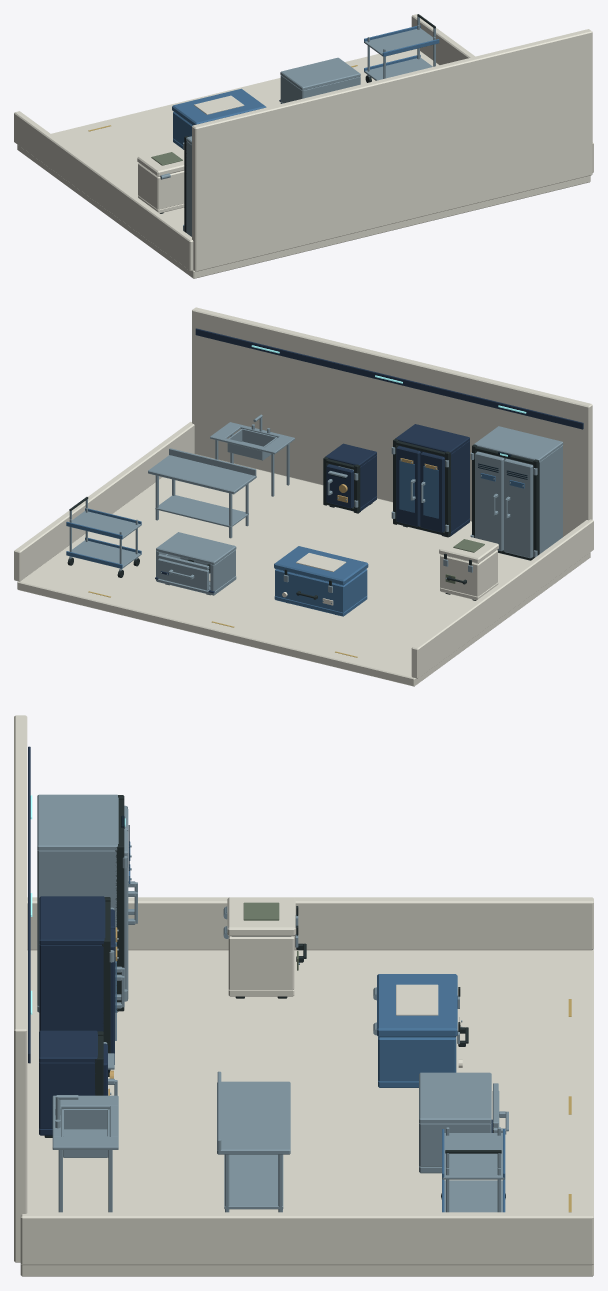
Rendered from restaurant_backroom.glb.
3 renders of one model, top to bottom at view 1: azimuth 30°, elevation 25°; view 2: azimuth 150°, elevation 25°; view 3: azimuth 270°, elevation 25°, orthographic. The views are drawn at different scales.
Visible parts, largest first — view 1: rear_wall, room_floor, cutaway_side (×2), supply_service_trolley_tray_floor (×2), undercounter_service_drawer_body_roof, insulated_seafood_chest_moving_lid, pantry_ingredient_bin_body_back_wall, pantry_ingredient_bin_body_side_wall, pantry_ingredient_bin_moving_lid, restaurant_tall_fridge_body_side_wall, insulated_seafood_chest_moving_lid_identity, undercounter_service_drawer_body_back_wall (+2 smaller); view 2: room_floor, rear_wall, cutaway_side (×2), service_rail, restaurant_tall_fridge_moving_left_door, restaurant_tall_fridge_moving_right_door, restaurant_tall_fridge_body_side_wall, stainless_prep_table_work_surface, supply_service_trolley_tray_floor (×2), restaurant_tall_fridge_body_roof, insulated_seafood_chest_body_front_wall, insulated_seafood_chest_moving_lid (+20 smaller); view 3: room_floor, cutaway_side (×2), rear_wall, bottle_storage_cabinet_body_side_wall, stainless_prep_table_work_surface, restaurant_tall_fridge_body_roof, restaurant_tall_fridge_body_side_wall, supply_service_trolley_tray_floor (×2), insulated_seafood_chest_moving_lid, undercounter_service_drawer_body_roof, pantry_ingredient_bin_body_side_wall, bottle_storage_cabinet_body_roof (+13 smaller).
Boxes of the visible parts, bbox=[...] form: rear_wall: bbox=[192, 29, 592, 271]; room_floor: bbox=[17, 49, 590, 278]; cutaway_side (×2): bbox=[14, 14, 593, 270]; supply_service_trolley_tray_floor (×2): bbox=[364, 28, 438, 80]; undercounter_service_drawer_body_roof: bbox=[280, 57, 360, 90]; insulated_seafood_chest_moving_lid: bbox=[172, 88, 266, 125]; pantry_ingredient_bin_body_back_wall: bbox=[156, 170, 184, 209]; pantry_ingredient_bin_body_side_wall: bbox=[138, 163, 161, 209]; pantry_ingredient_bin_moving_lid: bbox=[137, 147, 184, 176]; restaurant_tall_fridge_body_side_wall: bbox=[186, 141, 191, 236]; insulated_seafood_chest_moving_lid_identity: bbox=[194, 95, 244, 114]; undercounter_service_drawer_body_back_wall: bbox=[300, 77, 359, 98]; room_floor: bbox=[17, 469, 590, 686]; rear_wall: bbox=[192, 307, 592, 536]; cutaway_side (×2): bbox=[14, 421, 593, 678]; service_rail: bbox=[195, 328, 583, 429]; restaurant_tall_fridge_moving_left_door: bbox=[504, 458, 533, 558]; restaurant_tall_fridge_moving_right_door: bbox=[475, 451, 504, 551]; restaurant_tall_fridge_body_side_wall: bbox=[539, 445, 562, 553]; stainless_prep_table_work_surface: bbox=[148, 455, 256, 494]; supply_service_trolley_tray_floor (×2): bbox=[68, 510, 140, 568]; restaurant_tall_fridge_body_roof: bbox=[474, 426, 563, 462]; insulated_seafood_chest_body_front_wall: bbox=[275, 569, 345, 612]; insulated_seafood_chest_moving_lid: bbox=[274, 546, 368, 585]; room_floor: bbox=[20, 950, 593, 1276]; cutaway_side (×2): bbox=[20, 897, 593, 1265]; rear_wall: bbox=[14, 715, 27, 1262]; bottle_storage_cabinet_body_side_wall: bbox=[39, 944, 103, 1031]; stainless_prep_table_work_surface: bbox=[217, 1081, 290, 1154]; restaurant_tall_fridge_body_roof: bbox=[37, 794, 118, 850]; restaurant_tall_fridge_body_side_wall: bbox=[37, 850, 116, 1005]; supply_service_trolley_tray_floor (×2): bbox=[442, 1133, 504, 1212]; insulated_seafood_chest_moving_lid: bbox=[377, 974, 457, 1037]; undercounter_service_drawer_body_roof: bbox=[419, 1072, 491, 1123]; pantry_ingredient_bin_body_side_wall: bbox=[228, 936, 294, 990]; bottle_storage_cabinet_body_roof: bbox=[39, 896, 105, 944].
Size of the model in its own units: 7.93 by 2.86 by 6.07.
